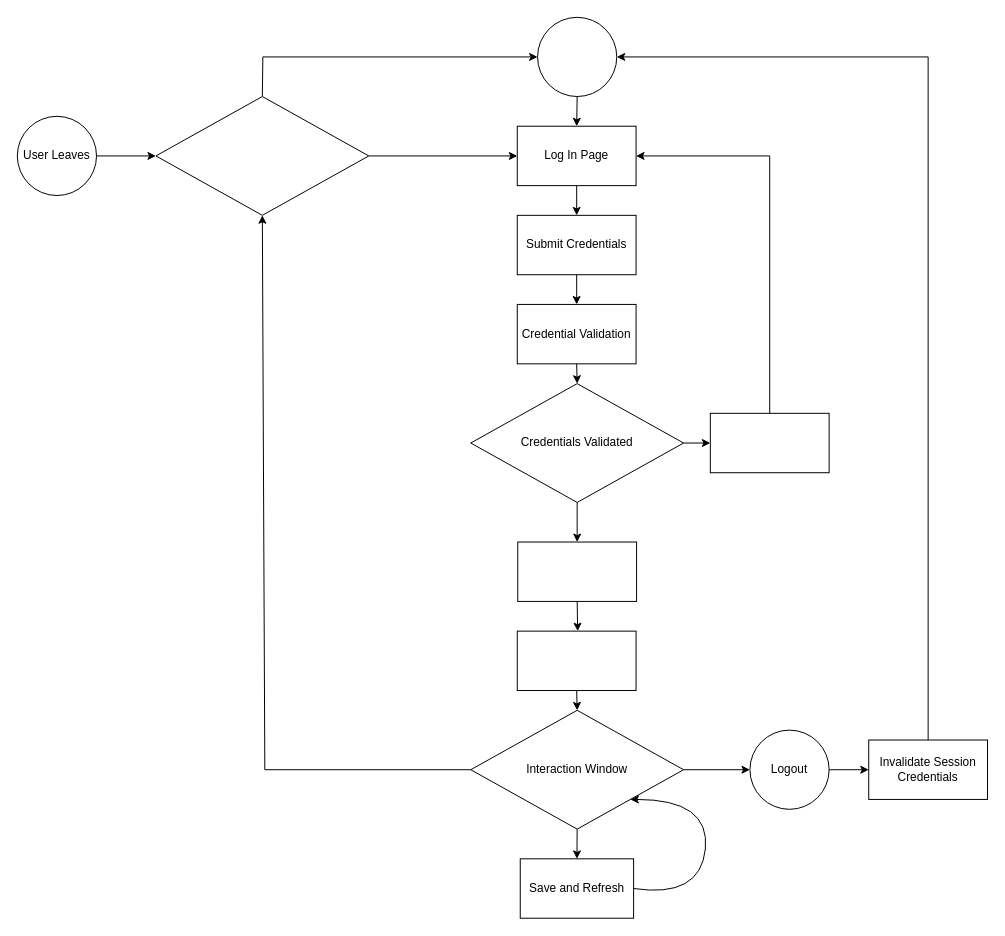
The diagram is 1005 pixels wide and 936 high, and some of its shapes have lost their labels. The centre of each missing label's shape, as x and y in pixels:
Credential Timeout Counter: the point at 262,155
Load View: the point at 576,660
Log In Rejected: the point at 769,442
Receive Token: the point at 577,571
Types In URL: the point at 577,56
